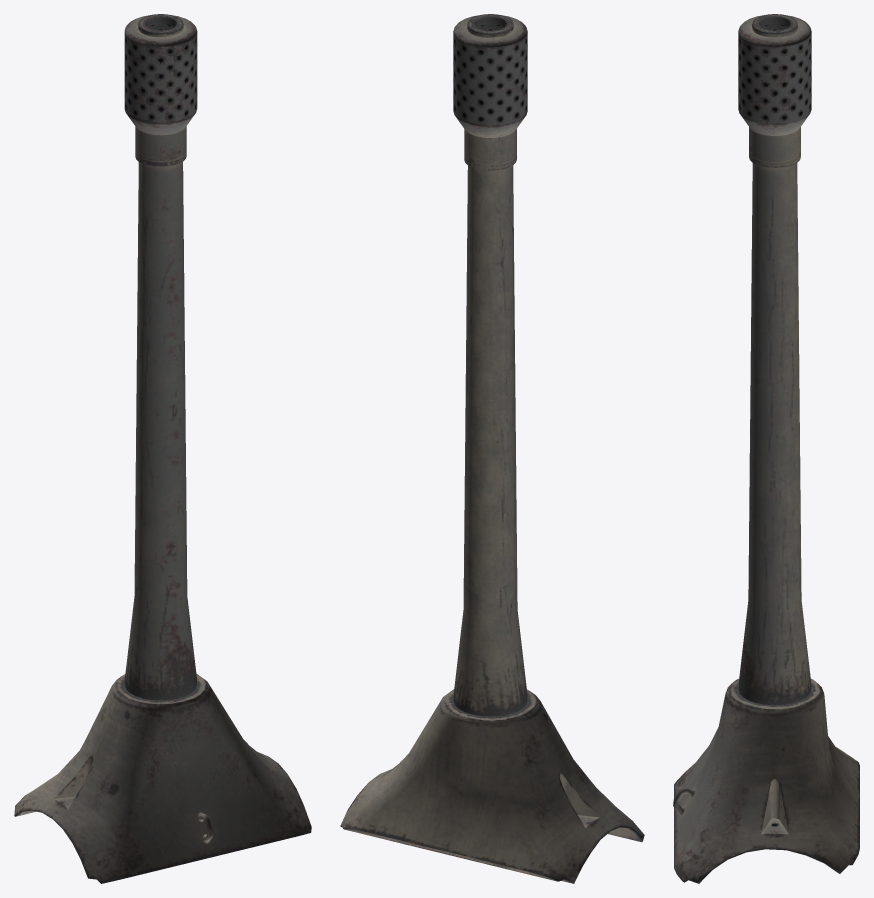
File: Gun_01.glb
3 renders of one model, left to right at view 1: azimuth 30°, elevation 25°; view 2: azimuth 150°, elevation 25°; view 3: azimuth 270°, elevation 25°, orthographic. The views are drawn at different scales.
Visible parts, largest first — view 1: set_0_group_0; view 2: set_0_group_0; view 3: set_0_group_0.
Boxes of the visible parts, <box> form: set_0_group_0: <box>14,14,311,883</box>; set_0_group_0: <box>340,14,644,883</box>; set_0_group_0: <box>673,14,859,883</box>.
Size of the model in its own units: 1.32 by 4.42 by 0.9273.
1 material, 1 textured.
